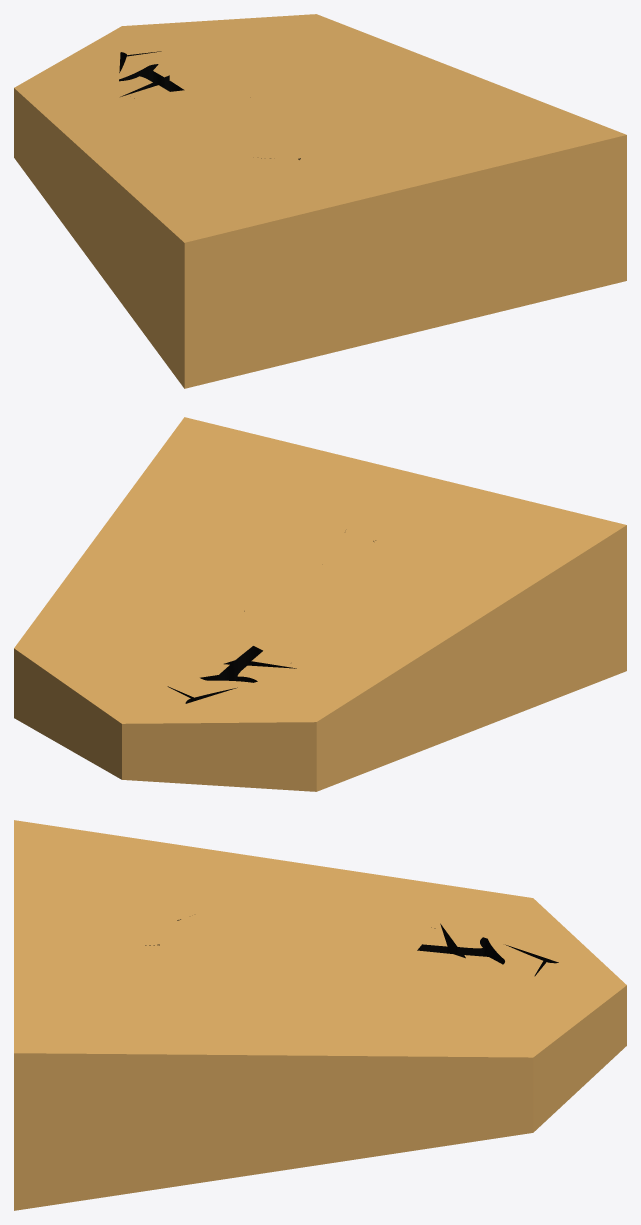
The model's file is gin.fbx.
3 views of the same model, one above another, from view 1: azimuth 30°, elevation 25°; view 2: azimuth 150°, elevation 25°; view 3: azimuth 270°, elevation 25° (orthographic). The views are drawn at different scales.
Visible parts, largest first — view 1: gin; view 2: gin; view 3: gin.
Part boxes in pixels (x1,y1,x2,y2): gin: (14,14,626,388); gin: (14,417,626,791); gin: (14,820,626,1210).
Bounding box in the file's own units: 0.026 × 0.0082 × 0.0289.
